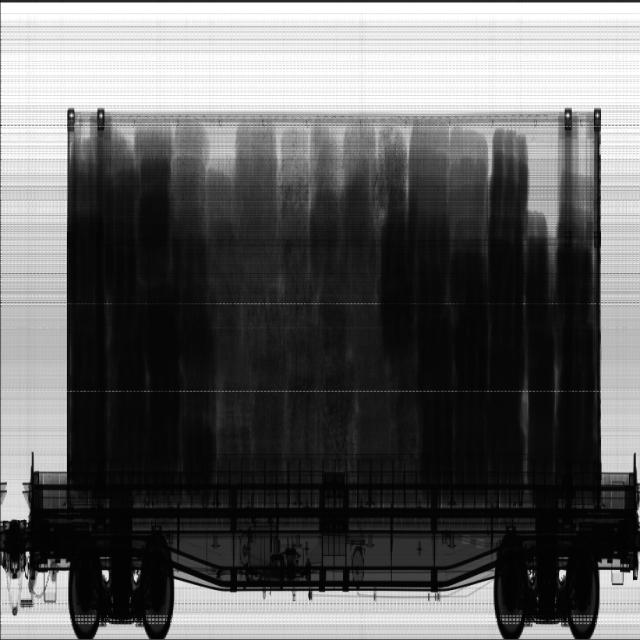clothes: (381, 132, 599, 471), (68, 128, 217, 472)
textile: (133, 123, 486, 459)
